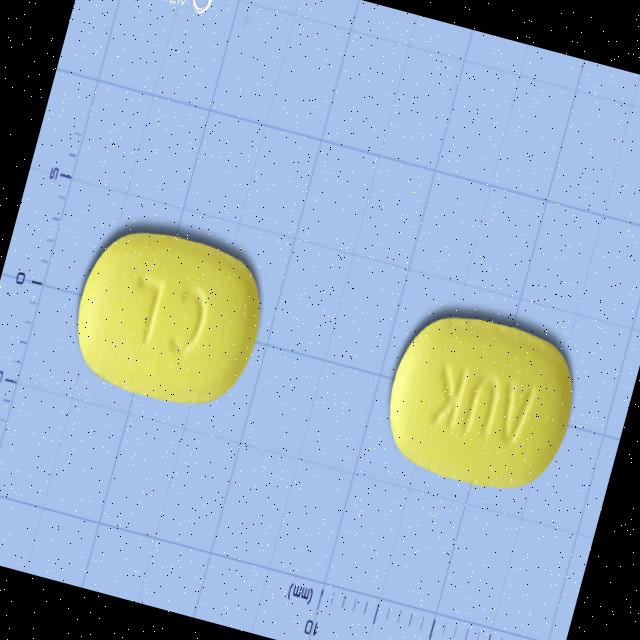Auscle - 500mg: (368, 291, 594, 512), (55, 208, 279, 425)
